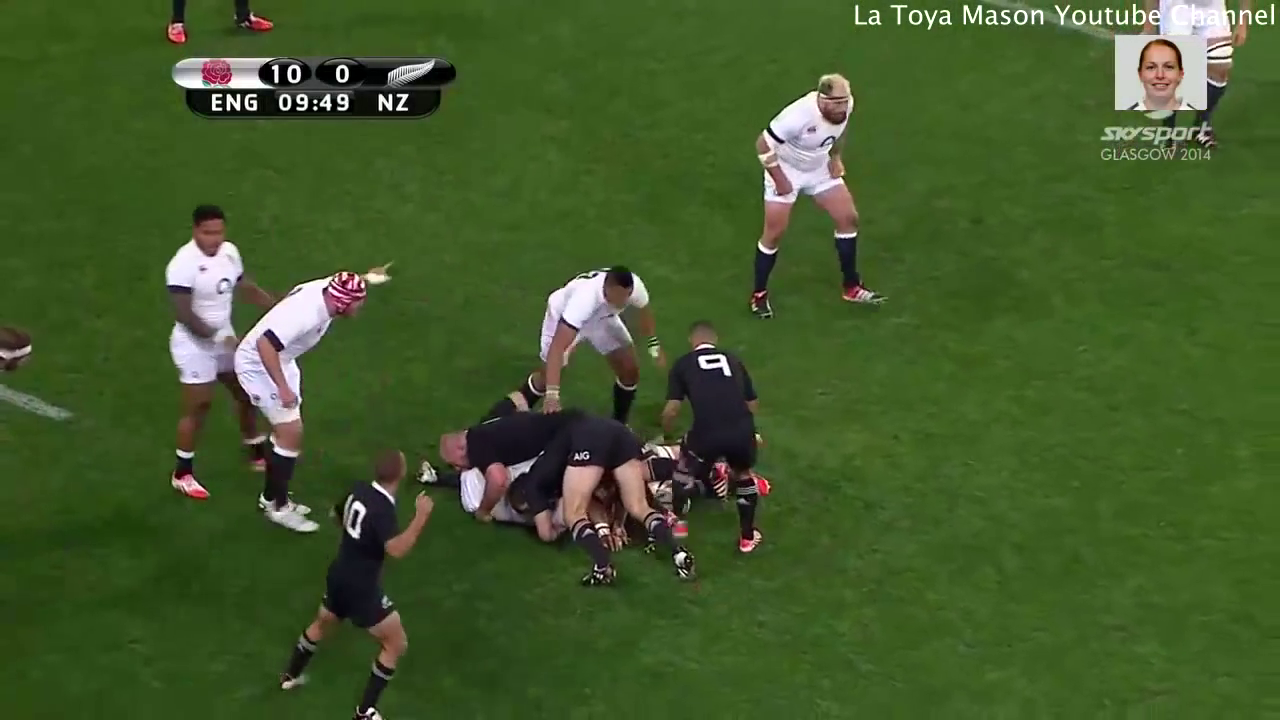player: (229, 228, 399, 534), (262, 441, 434, 720), (718, 62, 893, 318), (161, 204, 262, 510), (662, 316, 778, 580), (522, 260, 661, 404)
ruck: (420, 385, 667, 590)
